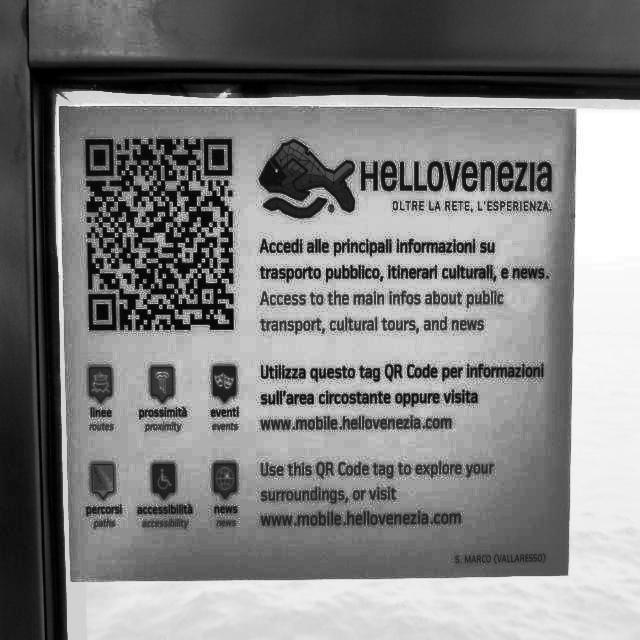qr_code: (86, 139, 234, 330)
